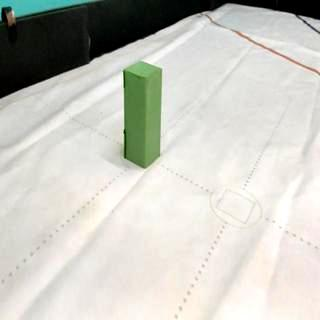greenbox: (123, 64, 163, 164)
